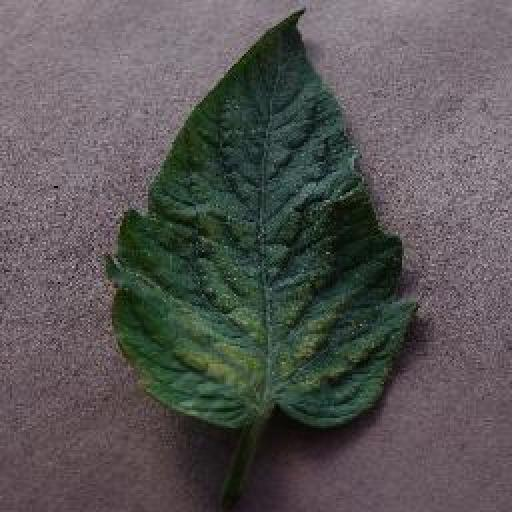disease_tomato: (106, 9, 422, 431)
